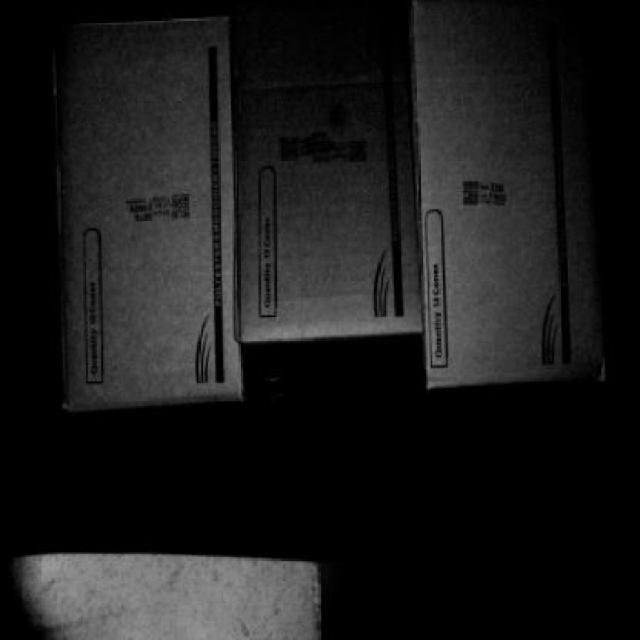cardboxes: (418, 0, 604, 388), (56, 22, 242, 400), (237, 9, 425, 342)
